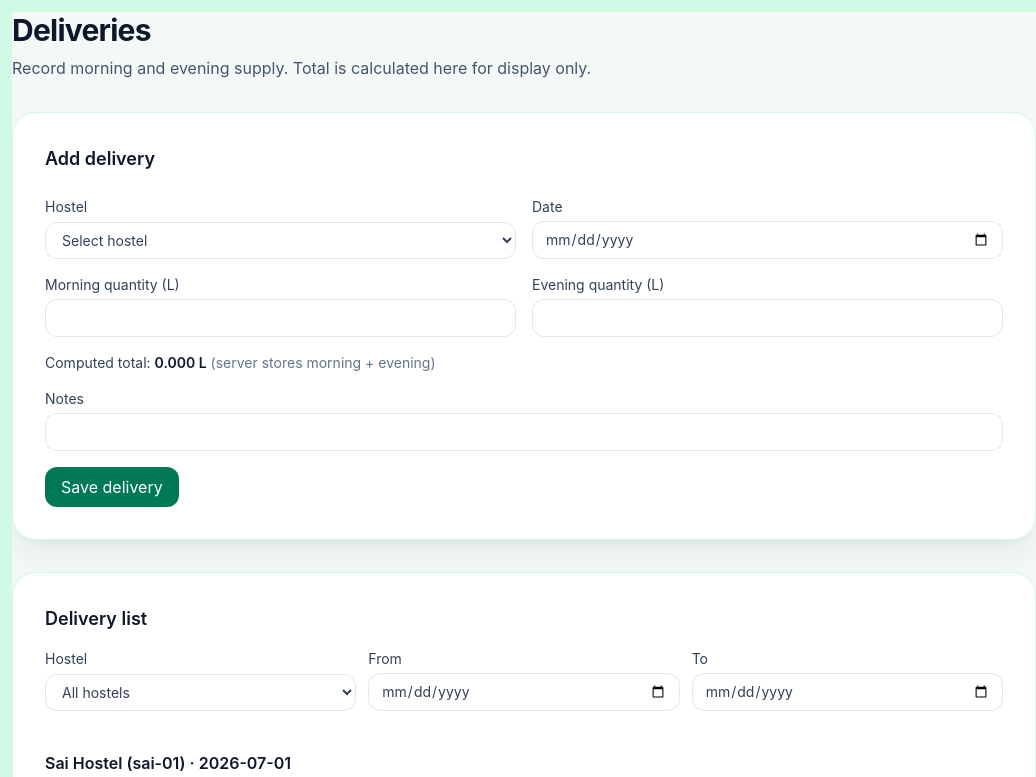
Scenario: DeliveriesPage › shows a computed total and lists deliveries
The width and height of the screenshot is (1036, 777).
Expected: the text "Sai Hostel (sai-01) · 2026-07-01" is shown, [45, 753, 291, 773]
Type "12.5" into the number field labelled "Morning quantity (L)" at coordinates (280, 318), box [45, 299, 516, 337]
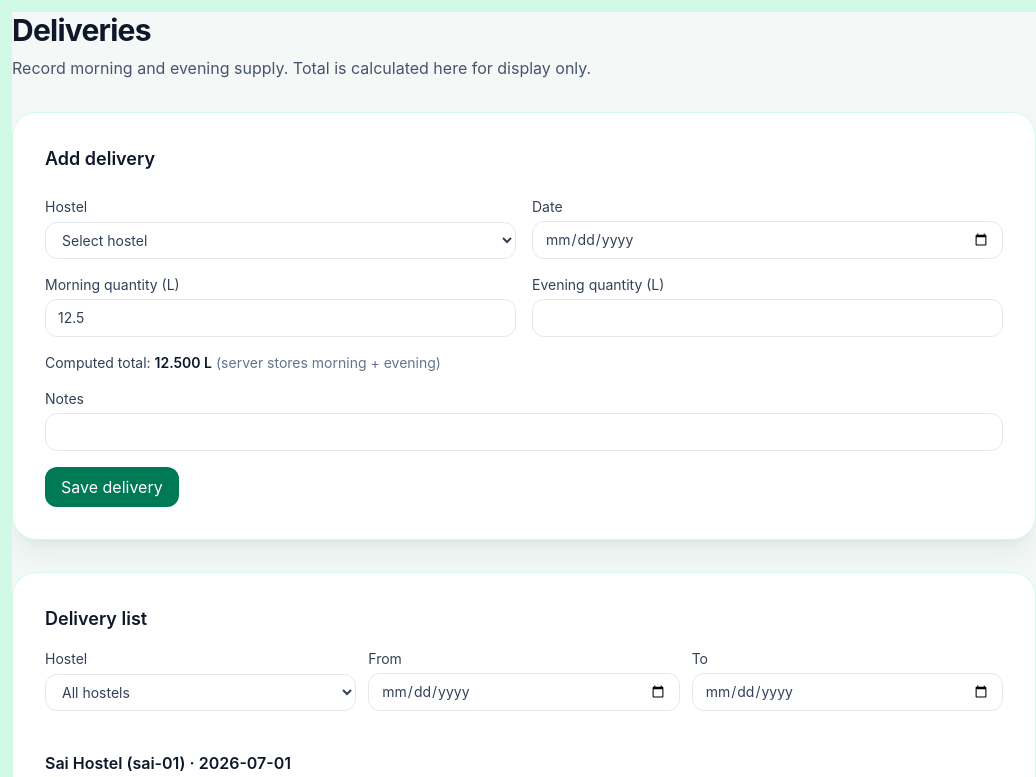
Type "10.25" into the number field labelled "Evening quantity (L)" at coordinates (768, 318), box [532, 299, 1003, 337]
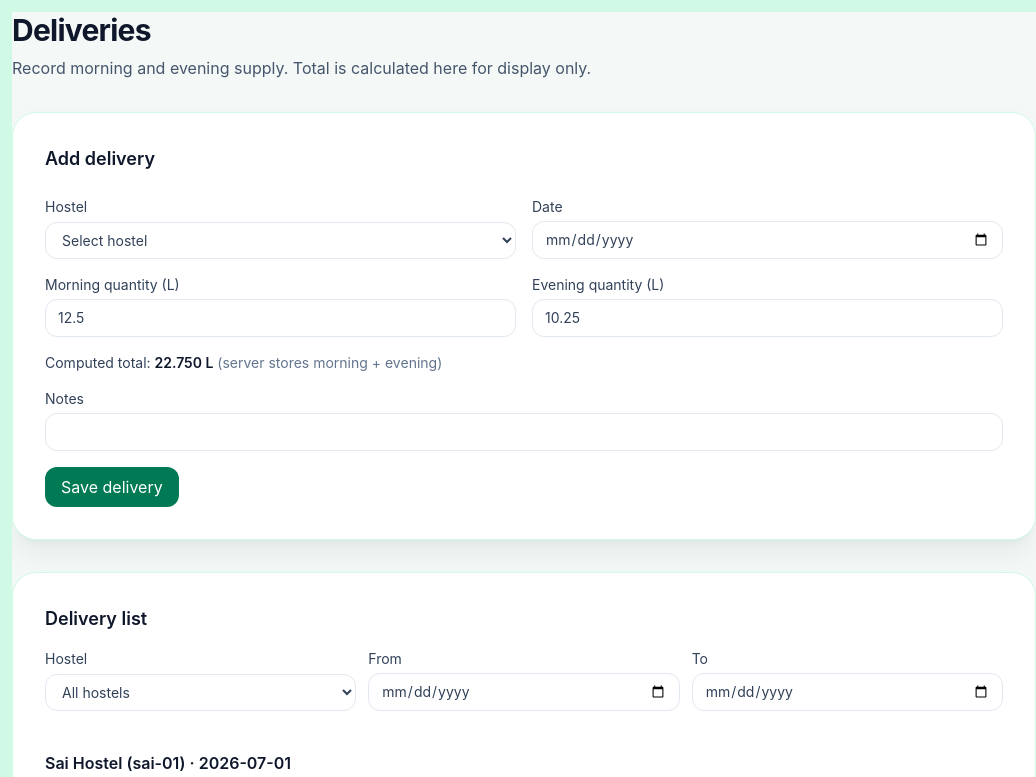
Expected: the text "22.750 L" is shown, [155, 354, 213, 371]
